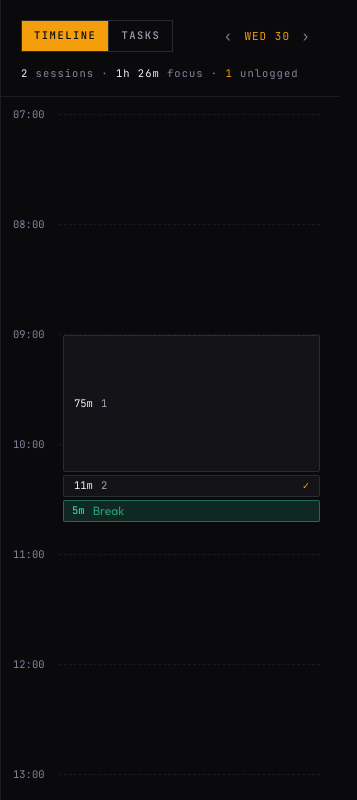
NowAside — header, summary, footer › one summary line; day nav steps days; no Today key or week grid
The width and height of the screenshot is (357, 800).
expect the element with test id "day-summary" reads "2 sessions · 1h 26m focus · 1 unlogged": met, box [21,66,320,82]
Click the button named "Previous day" at point(228, 36), box [214,21,242,51]
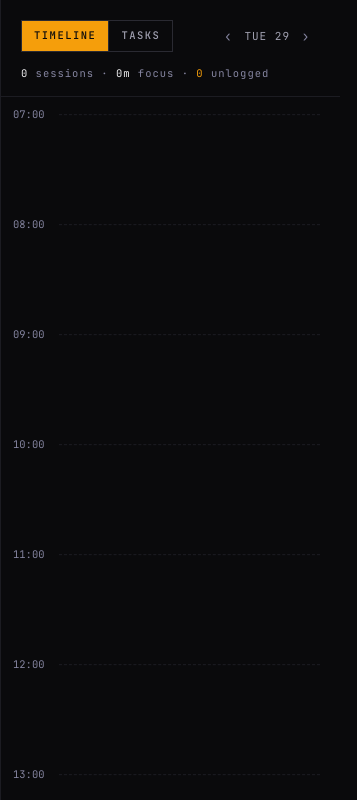
expect the element with test id "day-summary" reads "0 sessions · 0m focus · 0 unlogged": met, box [21,66,269,80]
